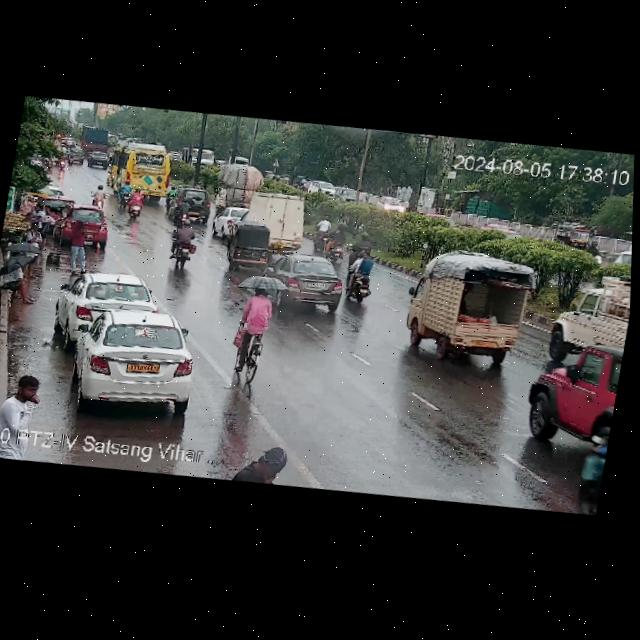bus: (103, 137, 184, 214)
car: (397, 238, 532, 370), (66, 300, 208, 418), (513, 333, 624, 452), (58, 266, 158, 341), (263, 250, 352, 316), (48, 197, 116, 255), (223, 217, 278, 274), (167, 183, 215, 228), (551, 220, 596, 250), (87, 148, 112, 170)
motorcycle: (231, 282, 277, 383), (339, 250, 383, 311), (165, 222, 207, 275), (321, 219, 348, 263), (309, 211, 333, 254), (124, 188, 150, 223), (88, 183, 111, 211), (175, 194, 194, 227), (114, 181, 134, 205)
person: (0, 235, 48, 299), (0, 369, 45, 430), (60, 210, 97, 275), (18, 217, 55, 265)
truck: (539, 258, 632, 354), (216, 180, 318, 259), (80, 123, 114, 156)
